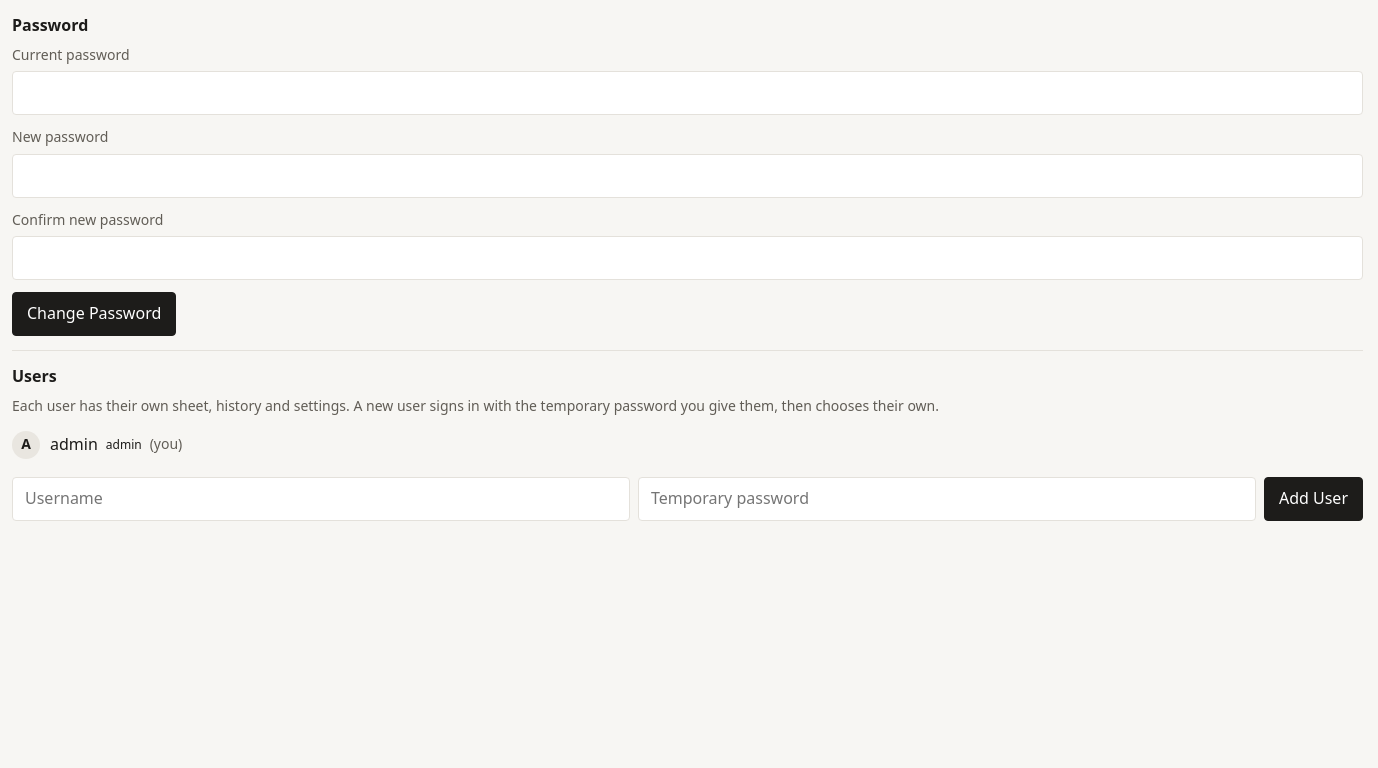
Test: AccountTab › sends no password change when the new password was typed differently twice
Type "new-pass-1" into the password field labelled "New password" at (688, 176), box [12, 154, 1363, 198]
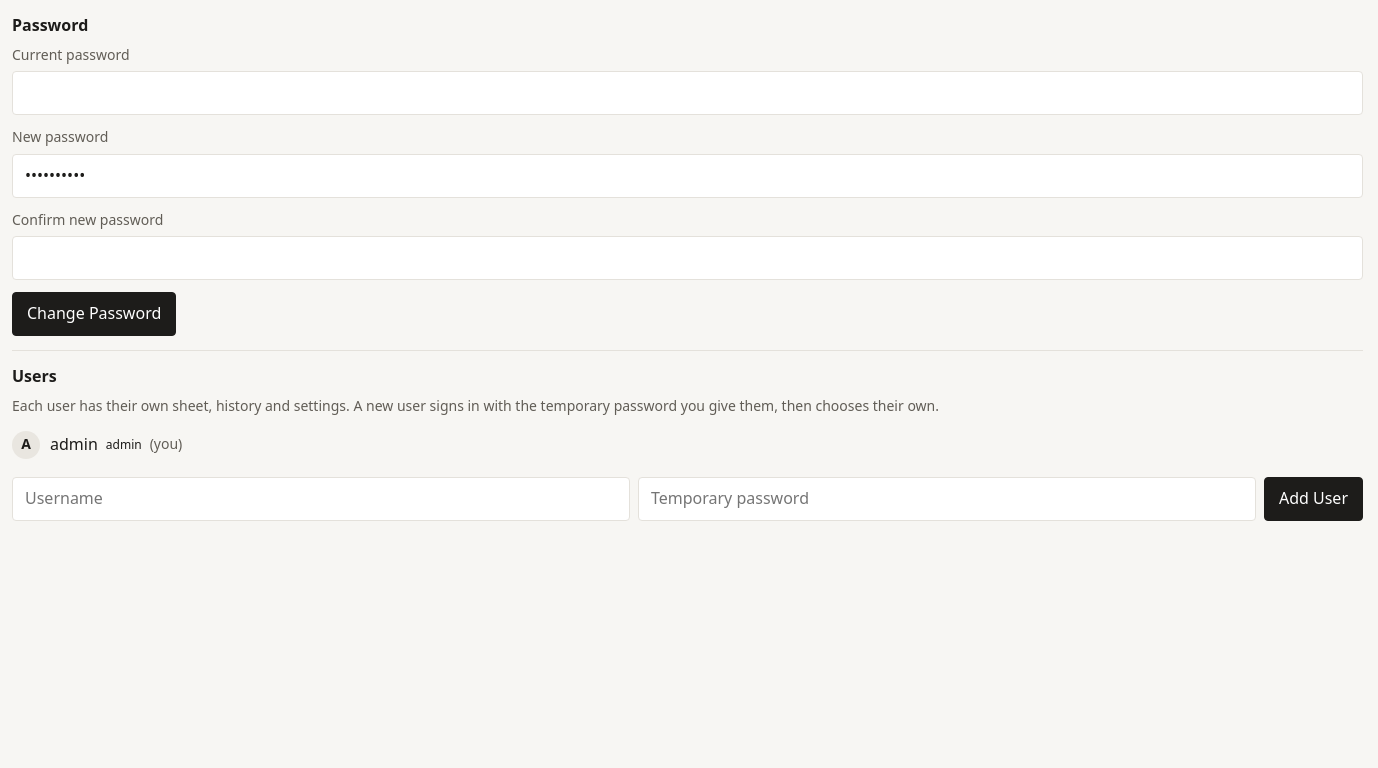
Type "new-pass-2" into the password field labelled "Confirm new password" at (688, 258), box [12, 236, 1363, 280]
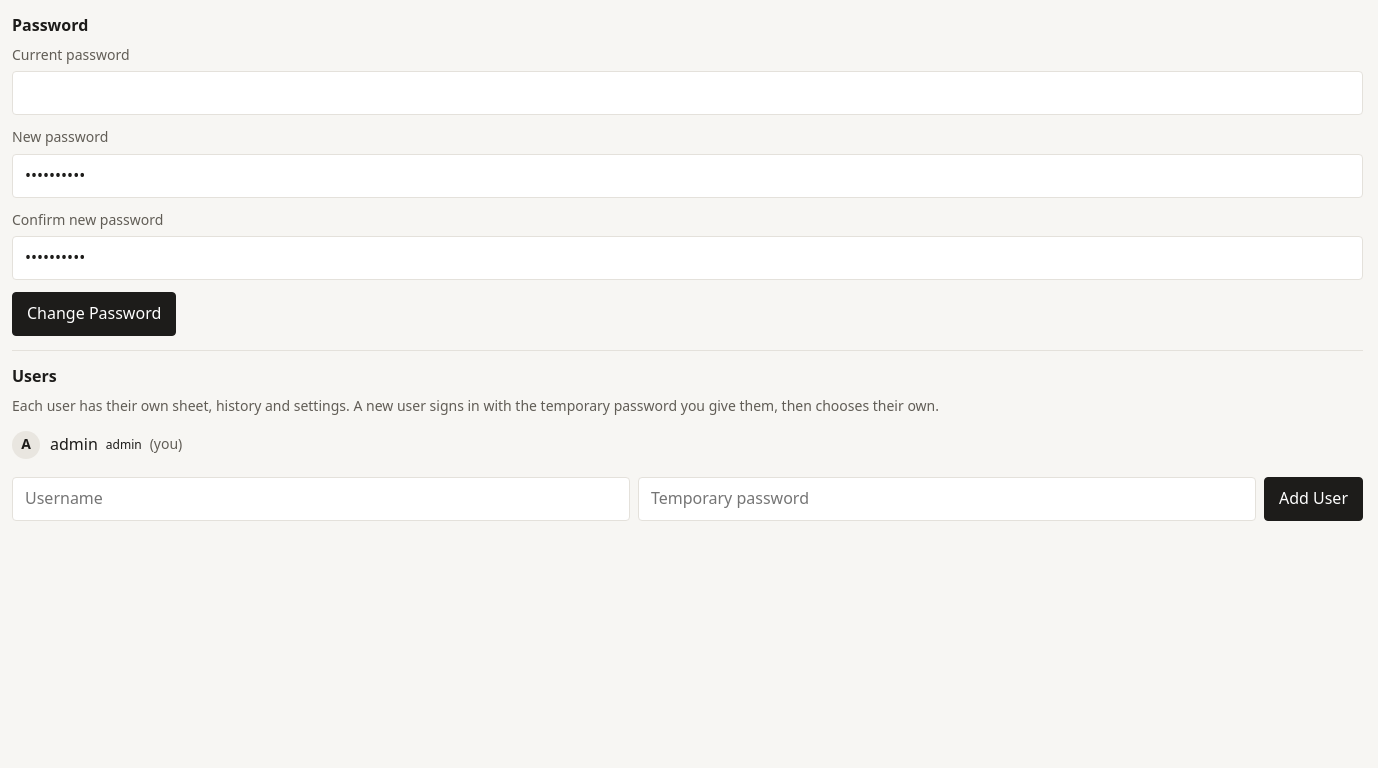
Submit the form "Change Password", box [12, 45, 1363, 336]
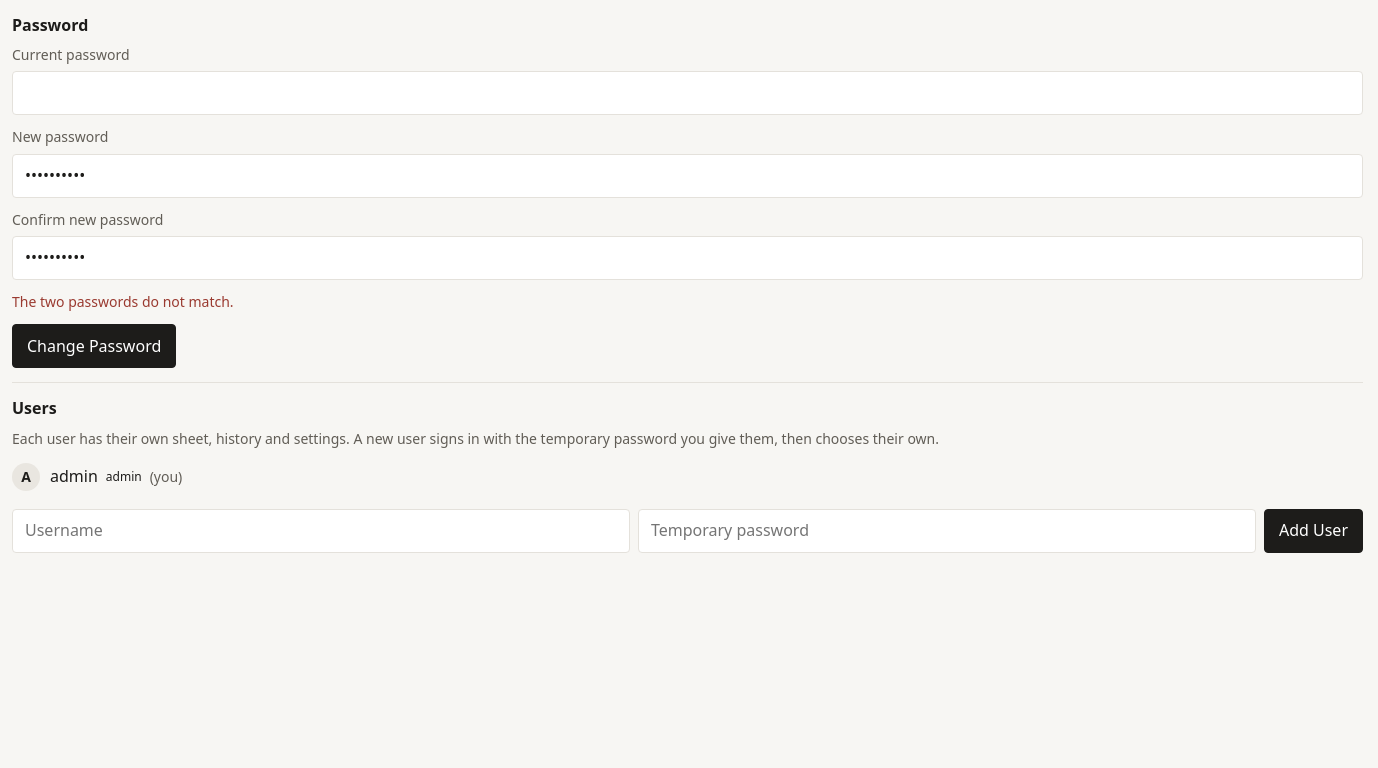
expect the message reads "The two passwords do not match.": met, box [12, 292, 234, 311]
